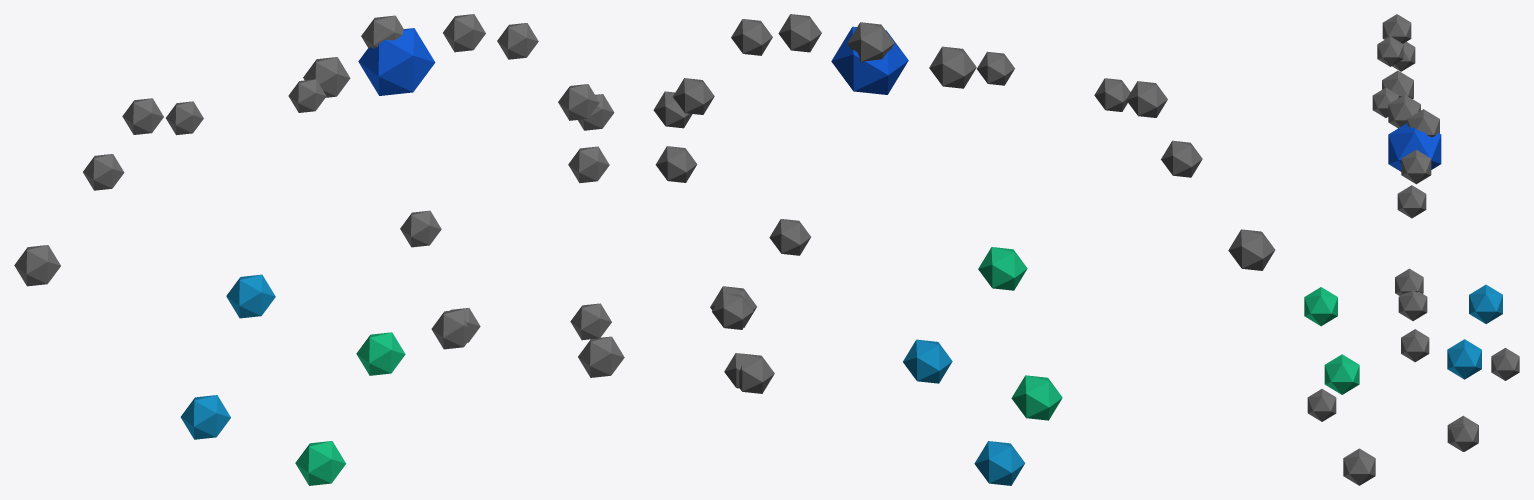
3 views of the same model, side by side, from view 1: azimuth 30°, elevation 25°; view 2: azimuth 150°, elevation 25°; view 3: azimuth 270°, elevation 25° (orthographic). The views are drawn at different scales.
Parts seen in each view (by area): view 1: 07_06_07; view 2: 07_06_07; view 3: 07_06_07.
Boxes of the visible parts, <box> form: 07_06_07: <box>14,14,624,485</box>; 07_06_07: <box>653,14,1275,485</box>; 07_06_07: <box>1304,14,1519,485</box>.
Size of the model in its own units: 0.6522 by 0.4169 by 0.2528.
